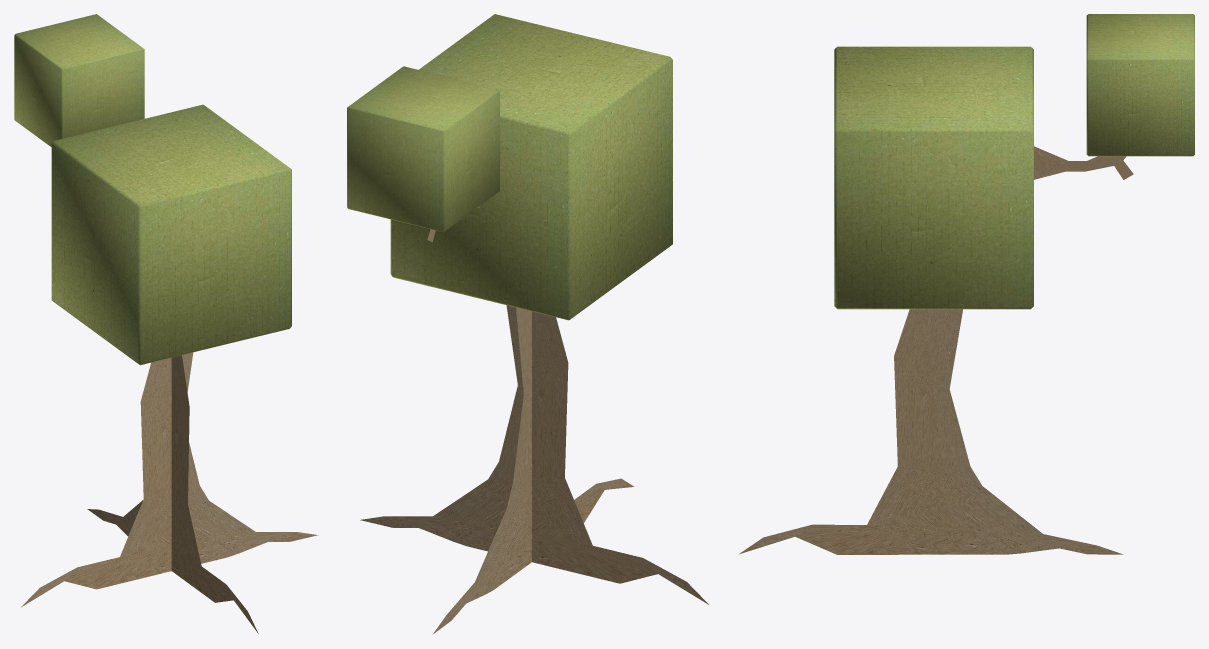
File: tree.fbx
3 views of the same model, side by side, from view 1: azimuth 30°, elevation 25°; view 2: azimuth 150°, elevation 25°; view 3: azimuth 270°, elevation 25° (orthographic). The views are drawn at different scales.
Parts seen in each view (by area): view 1: Cube, Cube_1, Plane, Plane_1; view 2: Cube, Cube_1, Plane, Plane_1; view 3: Cube, Plane_1, Cube_1, Polygon.
Boxes of the visible parts, left/top/right/bottom form: Cube: left=51, top=104, right=291, bottom=365; Cube_1: left=14, top=14, right=144, bottom=146; Plane: left=21, top=352, right=318, bottom=607; Plane_1: left=87, top=355, right=258, bottom=633; Cube: left=390, top=14, right=672, bottom=320; Cube_1: left=347, top=66, right=499, bottom=232; Plane: left=360, top=305, right=708, bottom=604; Plane_1: left=432, top=307, right=634, bottom=634; Cube: left=834, top=46, right=1033, bottom=309; Plane_1: left=738, top=309, right=1123, bottom=554; Cube_1: left=1086, top=14, right=1194, bottom=156; Polygon: left=1034, top=146, right=1133, bottom=179.
Bounding box in the file's own units: 387 × 574 × 458.
Materials: 2 (2 with a texture image).
